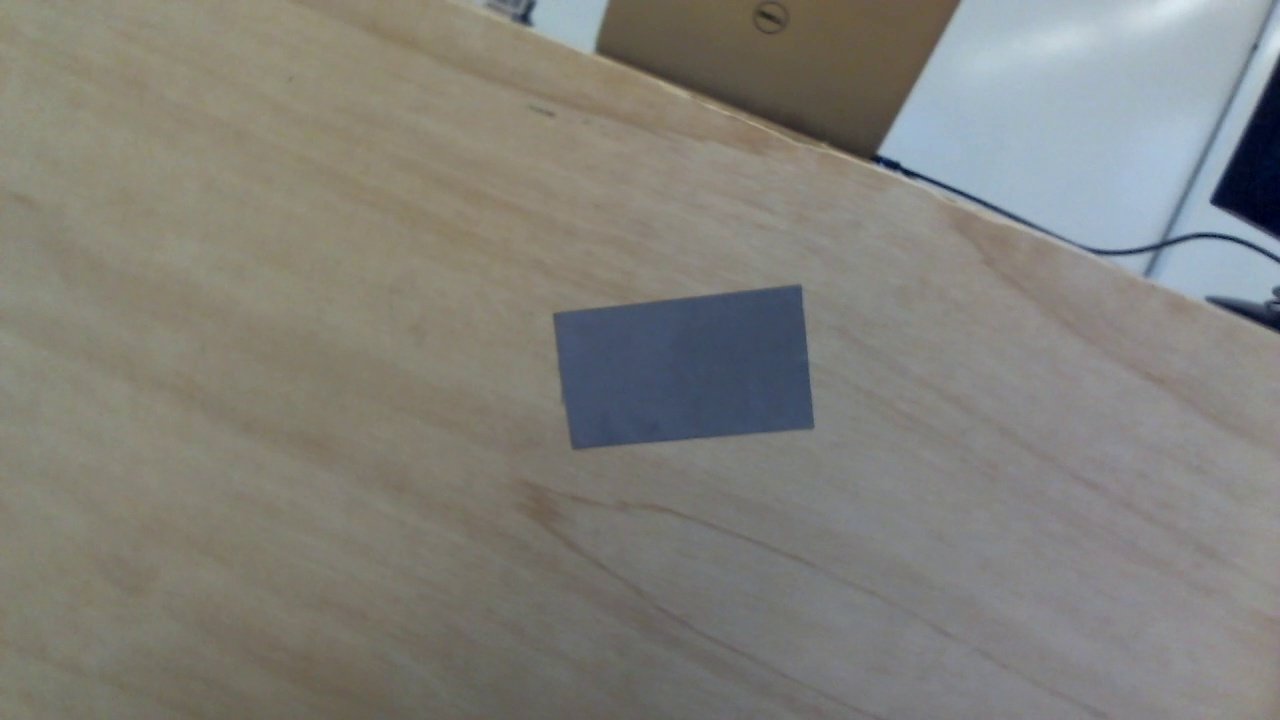Tape: (552, 283, 817, 452)
